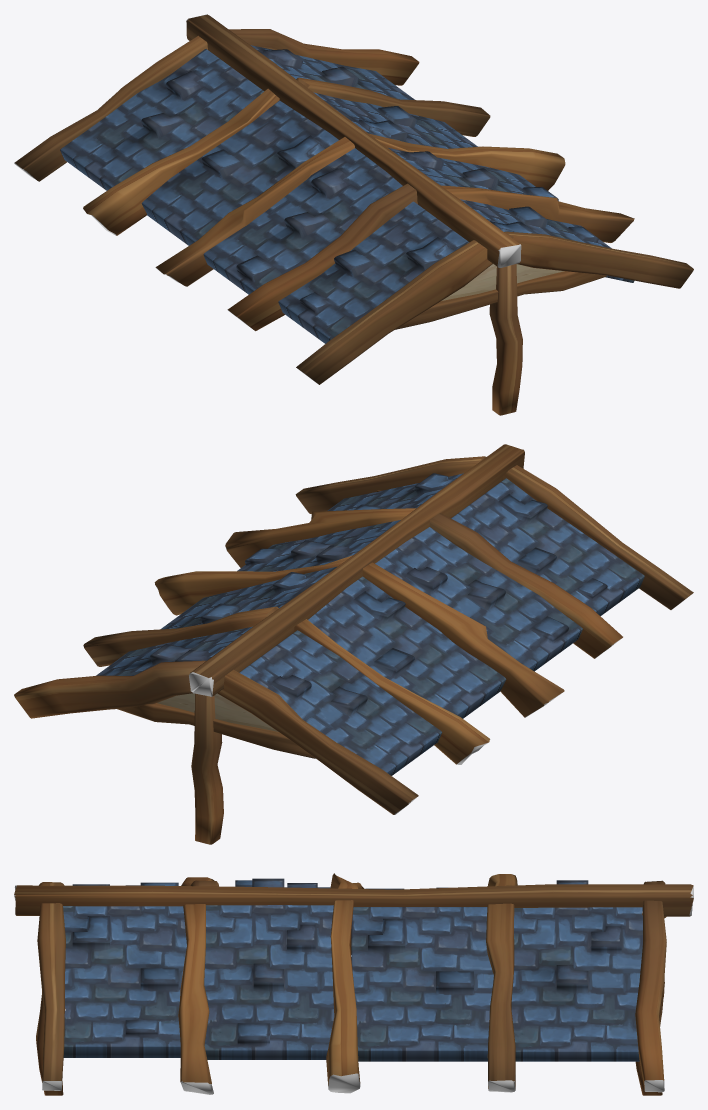
Rendered from HouseRoof.fbx.
3 views of the same model, one above another, from view 1: azimuth 30°, elevation 25°; view 2: azimuth 150°, elevation 25°; view 3: azimuth 270°, elevation 25° (orthographic). The views are drawn at different scales.
Visible parts, largest first — view 1: SecondFloorRoof; view 2: SecondFloorRoof; view 3: SecondFloorRoof.
Boxes of the visible parts, x1,y1,x2,y2 form: SecondFloorRoof: (14, 14, 693, 415); SecondFloorRoof: (14, 444, 693, 844); SecondFloorRoof: (14, 873, 693, 1095).
Bounding box in the file's own units: 8.95 × 3.84 × 12.05.
